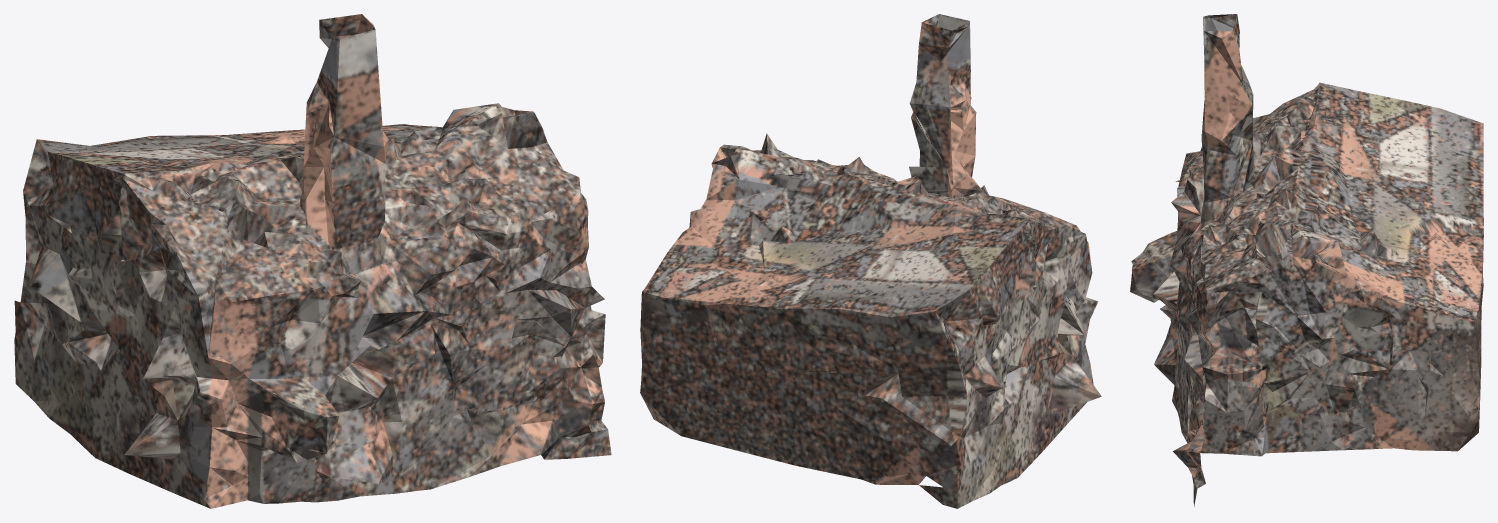
The model's file is moshava.obj.
3 views of the same model, side by side, from view 1: azimuth 30°, elevation 25°; view 2: azimuth 150°, elevation 25°; view 3: azimuth 270°, elevation 25° (orthographic). The views are drawn at different scales.
Bounding box in the file's own units: 1 × 1 × 0.8229.
1 material, 1 textured.
